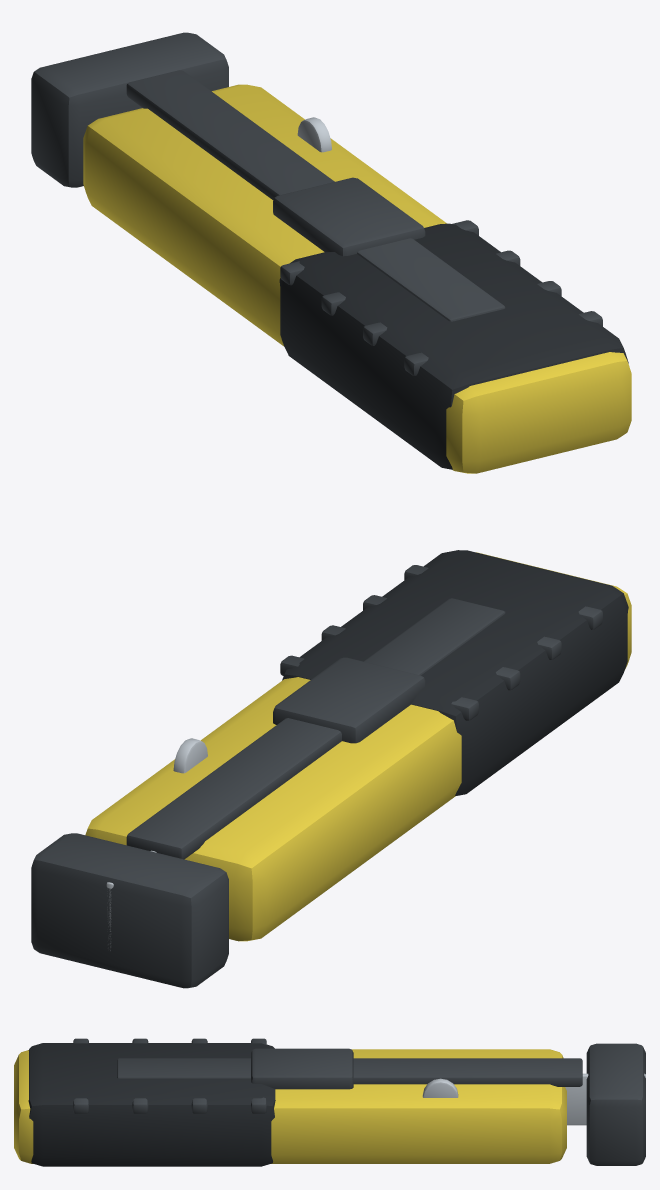
Rendered from delivery_box_cutter.glb.
3 views of the same model, one above another, from view 1: azimuth 30°, elevation 25°; view 2: azimuth 150°, elevation 25°; view 3: azimuth 270°, elevation 25° (orthographic). The views are drawn at different scales.
Visible parts, largest first — view 1: CUTTER_BODY, CUTTER_RUBBER_GRIP, CUTTER_CHANNEL, CUTTER_SAFETY_STOP, CUTTER_SLIDER, CUTTER_SCREW; view 2: CUTTER_BODY, CUTTER_RUBBER_GRIP, CUTTER_SAFETY_STOP, CUTTER_CHANNEL, CUTTER_SLIDER, CUTTER_SCREW, CUTTER_GRIP_RIDGE_04; view 3: CUTTER_BODY, CUTTER_RUBBER_GRIP, CUTTER_CHANNEL, CUTTER_SAFETY_STOP, CUTTER_SLIDER, CUTTER_BLADE, CUTTER_SCREW, CUTTER_GRIP_RIDGE_04, CUTTER_GRIP_RIDGE_03, CUTTER_GRIP_RIDGE_02, CUTTER_GRIP_RIDGE_01.
Boxes of the visible parts, <box> form: CUTTER_BODY: <box>83,84,631,473</box>; CUTTER_RUBBER_GRIP: <box>279,223,628,469</box>; CUTTER_CHANNEL: <box>126,70,505,321</box>; CUTTER_SAFETY_STOP: <box>31,32,228,187</box>; CUTTER_SLIDER: <box>273,177,425,256</box>; CUTTER_SCREW: <box>297,117,331,152</box>; CUTTER_BODY: <box>85,552,631,941</box>; CUTTER_RUBBER_GRIP: <box>282,550,628,795</box>; CUTTER_SAFETY_STOP: <box>31,833,228,988</box>; CUTTER_CHANNEL: <box>126,598,505,859</box>; CUTTER_SLIDER: <box>273,657,425,743</box>; CUTTER_SCREW: <box>173,738,207,773</box>; CUTTER_GRIP_RIDGE_04: <box>280,655,478,720</box>; CUTTER_BODY: <box>14,1049,566,1163</box>; CUTTER_RUBBER_GRIP: <box>28,1043,275,1166</box>; CUTTER_CHANNEL: <box>117,1058,582,1086</box>; CUTTER_SAFETY_STOP: <box>586,1043,645,1165</box>; CUTTER_SLIDER: <box>251,1048,353,1089</box>; CUTTER_BLADE: <box>565,1073,645,1125</box>; CUTTER_SCREW: <box>422,1078,458,1097</box>; CUTTER_GRIP_RIDGE_04: <box>251,1038,266,1113</box>; CUTTER_GRIP_RIDGE_03: <box>191,1038,207,1113</box>; CUTTER_GRIP_RIDGE_02: <box>132,1038,148,1113</box>; CUTTER_GRIP_RIDGE_01: <box>73,1038,88,1113</box>.
Bounding box in the file's own units: 0.04 × 0.0235 × 0.16.
